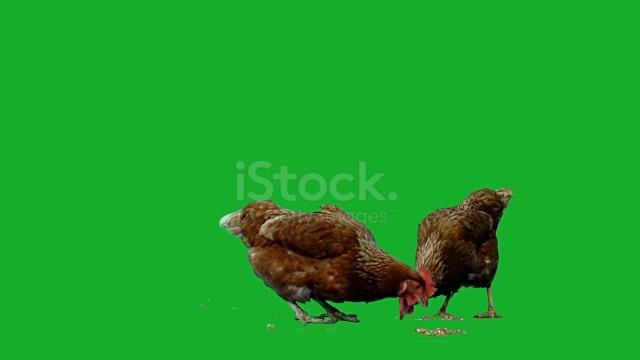Normal: (220, 198, 434, 322), (420, 185, 515, 320)
